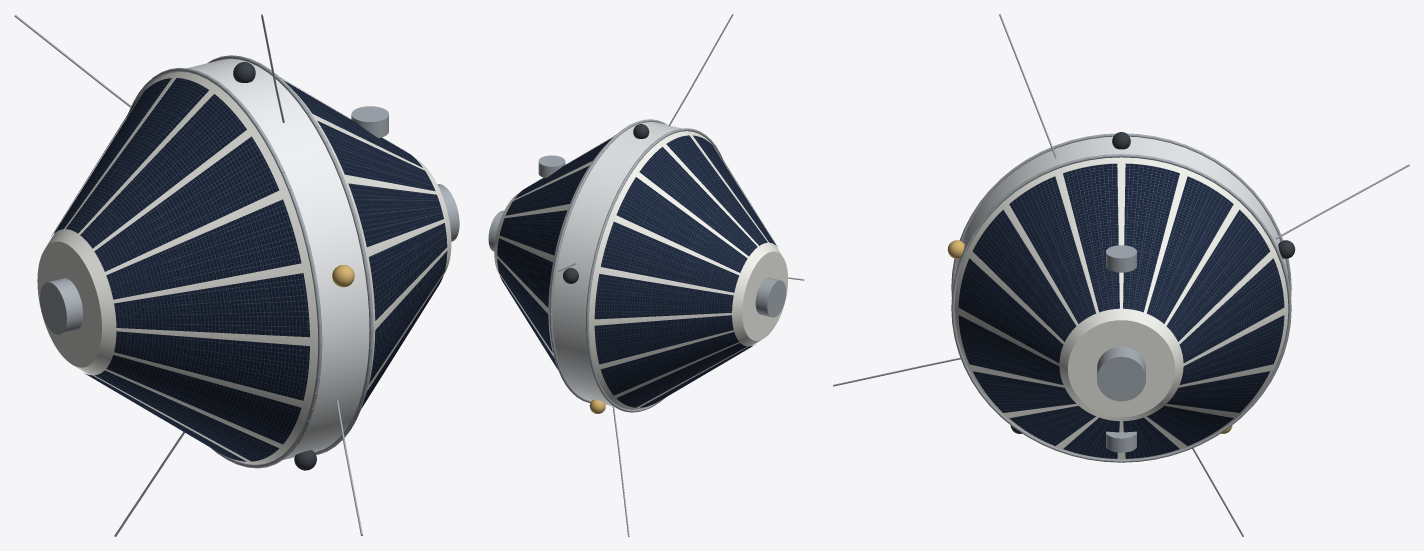
File: explorer-7-atlas.glb
3 renders of one model, left to right at view 1: azimuth 30°, elevation 25°; view 2: azimuth 150°, elevation 25°; view 3: azimuth 270°, elevation 25°, orthographic. The views are drawn at different scales.
Visible parts, largest first — view 1: Lower fiberglass shell, Central aluminium instrument section, Lower solar cell sector 2, Lower solar cell sector 3, Lower solar cell sector 1, Lower solar cell sector 4, Lower solar cell sector 0, Lower solar cell sector 5, Lower solar cell sector 15, Upper solar cell sector 2, Upper fiberglass shell, Upper solar cell sector 3 (+10 smaller); view 2: Lower fiberglass shell, Central aluminium instrument section, Lower solar cell sector 13, Lower solar cell sector 12, Lower solar cell sector 14, Lower solar cell sector 11, Lower solar cell sector 15, Lower solar cell sector 10, Lower solar cell sector 0, Upper fiberglass shell, Upper solar cell sector 13, Upper solar cell sector 12 (+8 smaller); view 3: Upper fiberglass shell, Central aluminium instrument section, Upper solar cell sector 0, Upper solar cell sector 15, Upper solar cell sector 1, Upper solar cell sector 14, Upper solar cell sector 2, Upper solar cell sector 13, Upper solar cell sector 3, Upper solar cell sector 12, Upper solar cell sector 4, Upper solar cell sector 11 (+8 smaller).
Boxes of the visible parts, x1,y1,x2,y2 form: Lower fiberglass shell: [37, 72, 317, 464]; Central aluminium instrument section: [187, 59, 369, 459]; Lower solar cell sector 2: [106, 199, 301, 299]; Lower solar cell sector 3: [114, 273, 309, 337]; Lower solar cell sector 1: [94, 136, 279, 271]; Lower solar cell sector 4: [114, 331, 309, 400]; Lower solar cell sector 0: [80, 94, 246, 248]; Lower solar cell sector 5: [106, 355, 301, 444]; Lower solar cell sector 15: [66, 78, 208, 233]; Upper solar cell sector 2: [348, 183, 443, 247]; Upper fiberglass shell: [292, 89, 451, 392]; Upper solar cell sector 3: [368, 223, 447, 320]; Lower fiberglass shell: [589, 131, 787, 409]; Central aluminium instrument section: [552, 122, 681, 406]; Lower solar cell sector 13: [600, 221, 739, 292]; Lower solar cell sector 12: [594, 274, 733, 319]; Lower solar cell sector 14: [616, 177, 747, 272]; Lower solar cell sector 11: [594, 315, 733, 364]; Lower solar cell sector 15: [639, 147, 757, 256]; Lower solar cell sector 10: [600, 332, 738, 395]; Lower solar cell sector 0: [666, 135, 767, 245]; Upper fiberglass shell: [494, 145, 605, 358]; Upper solar cell sector 13: [499, 210, 567, 255]; Upper solar cell sector 12: [497, 238, 552, 307]; Upper fiberglass shell: [954, 157, 1288, 459]; Central aluminium instrument section: [954, 136, 1288, 276]; Upper solar cell sector 0: [1063, 163, 1119, 312]; Upper solar cell sector 15: [1123, 163, 1179, 312]; Upper solar cell sector 1: [1009, 176, 1096, 323]; Upper solar cell sector 14: [1146, 176, 1233, 323]; Upper solar cell sector 2: [972, 209, 1076, 341]; Upper solar cell sector 13: [1166, 209, 1270, 341]; Upper solar cell sector 3: [958, 258, 1063, 362]; Upper solar cell sector 12: [1179, 258, 1284, 362]; Upper solar cell sector 4: [958, 315, 1063, 384]; Upper solar cell sector 11: [1179, 315, 1284, 384].
Bounding box in the file's own units: 0.84 × 1.29 × 1.29.
Materials: 6 (1 with a texture image).
